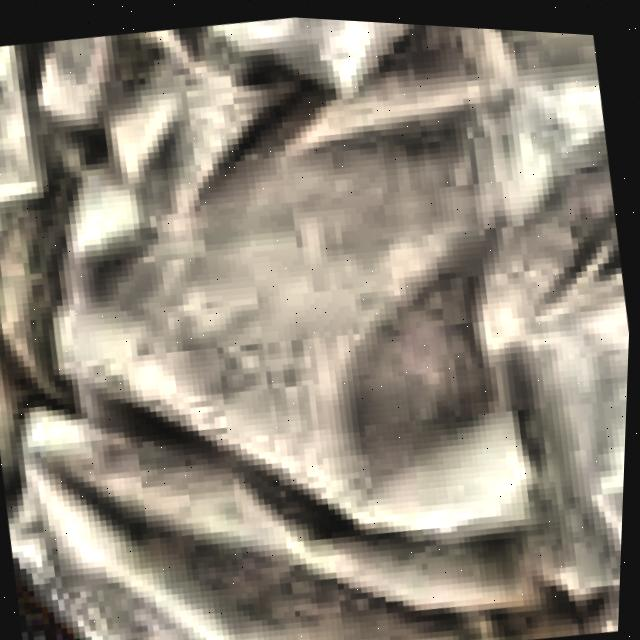paper: (0, 14, 631, 640)
